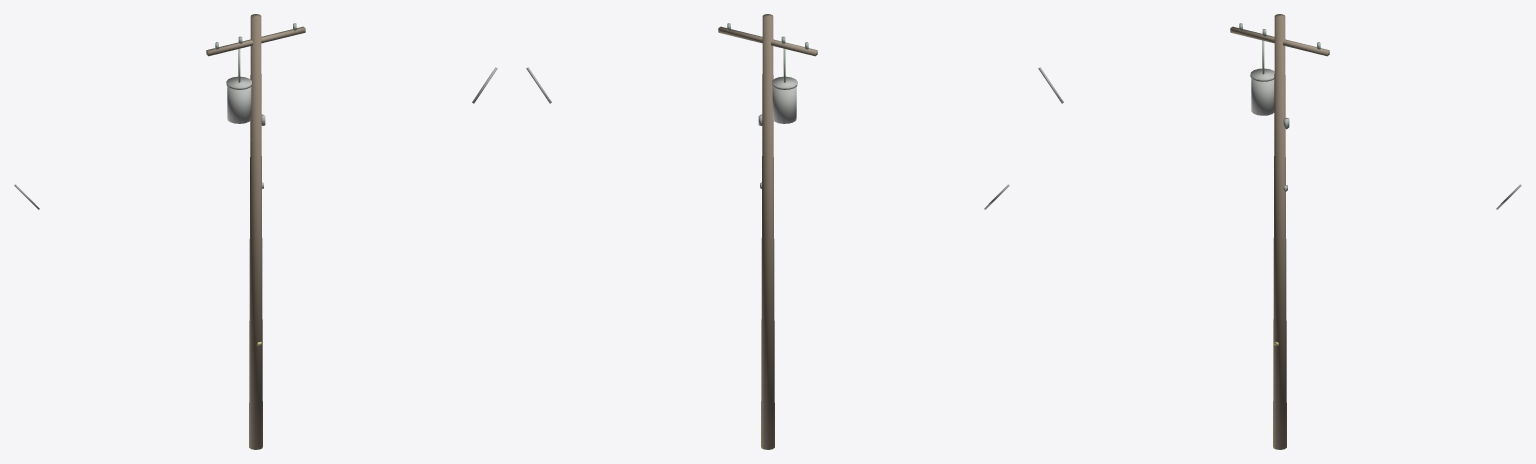
Rendered from util_pole_t.glb.
The picture shows the model from 3 angles, left to right: view 1: azimuth 30°, elevation 25°; view 2: azimuth 150°, elevation 25°; view 3: azimuth 330°, elevation 25°; orthographic projection.
Parts seen in each view (by area): view 1: util_pole_t; view 2: util_pole_t; view 3: util_pole_t.
Boxes of the visible parts, box(x1,y1,x2,y2) form: util_pole_t: box(14, 14, 497, 449); util_pole_t: box(526, 14, 1009, 449); util_pole_t: box(1038, 14, 1521, 449).
Bounding box in the file's own units: 12.43 × 10.6 × 0.58.
